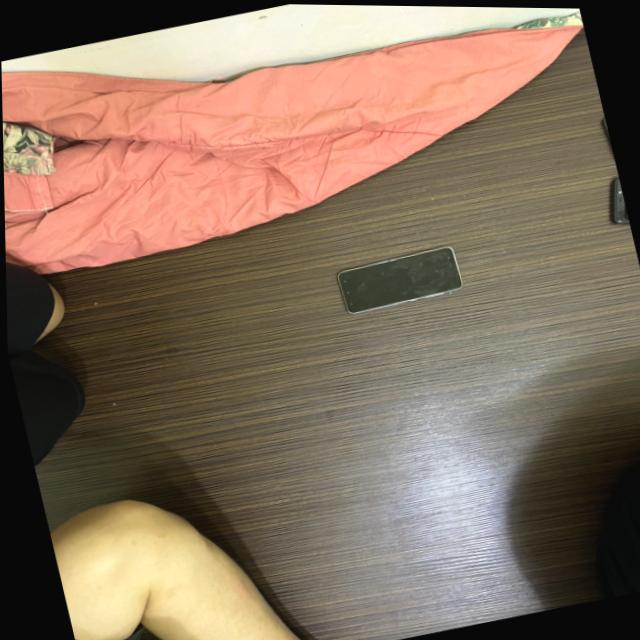Smartphone: (336, 244, 462, 313)
